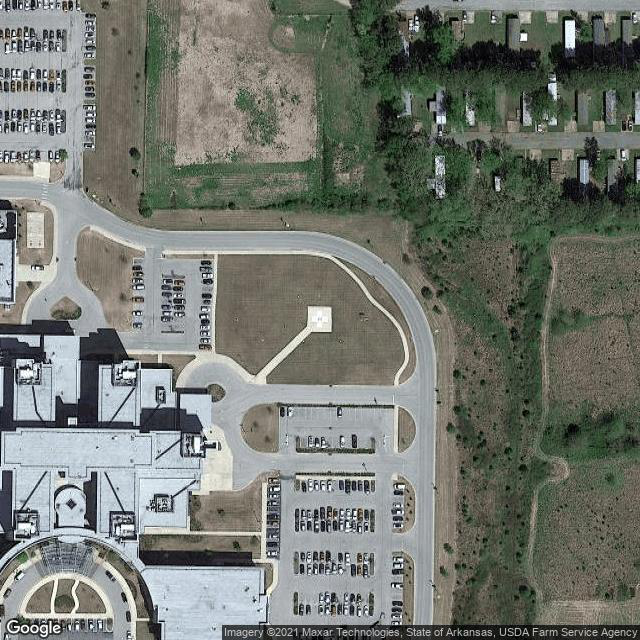Helipad: (304, 302, 335, 334)
